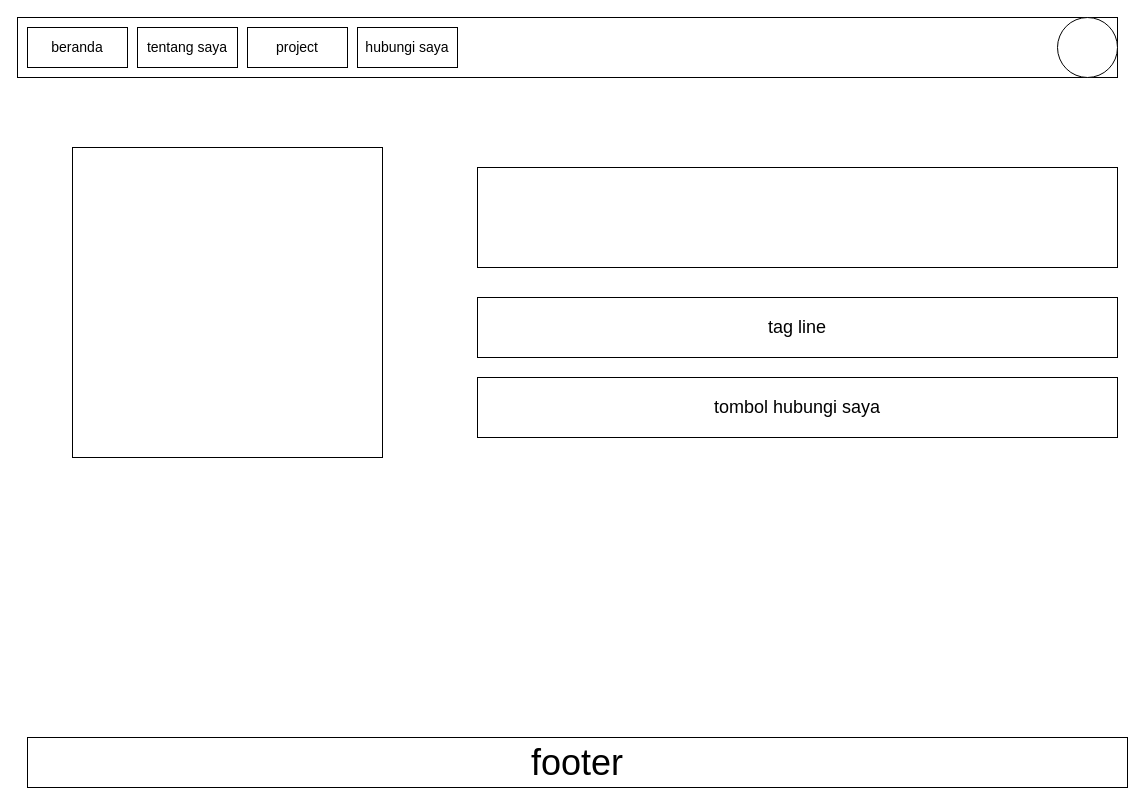
This 1145x805 diagram has some shape labels left out. Each missing label, with the box of its shape:
Foto/logo: (72, 146, 382, 458)
logo: (1056, 16, 1118, 78)
perkenalan singkat: (476, 166, 1118, 268)
